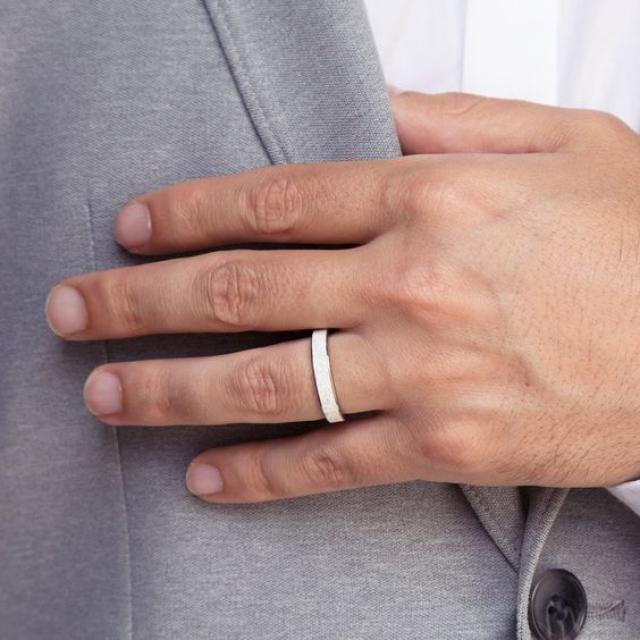Fingernail: (45, 287, 88, 336), (83, 372, 122, 418), (113, 206, 152, 248), (185, 463, 222, 495)
